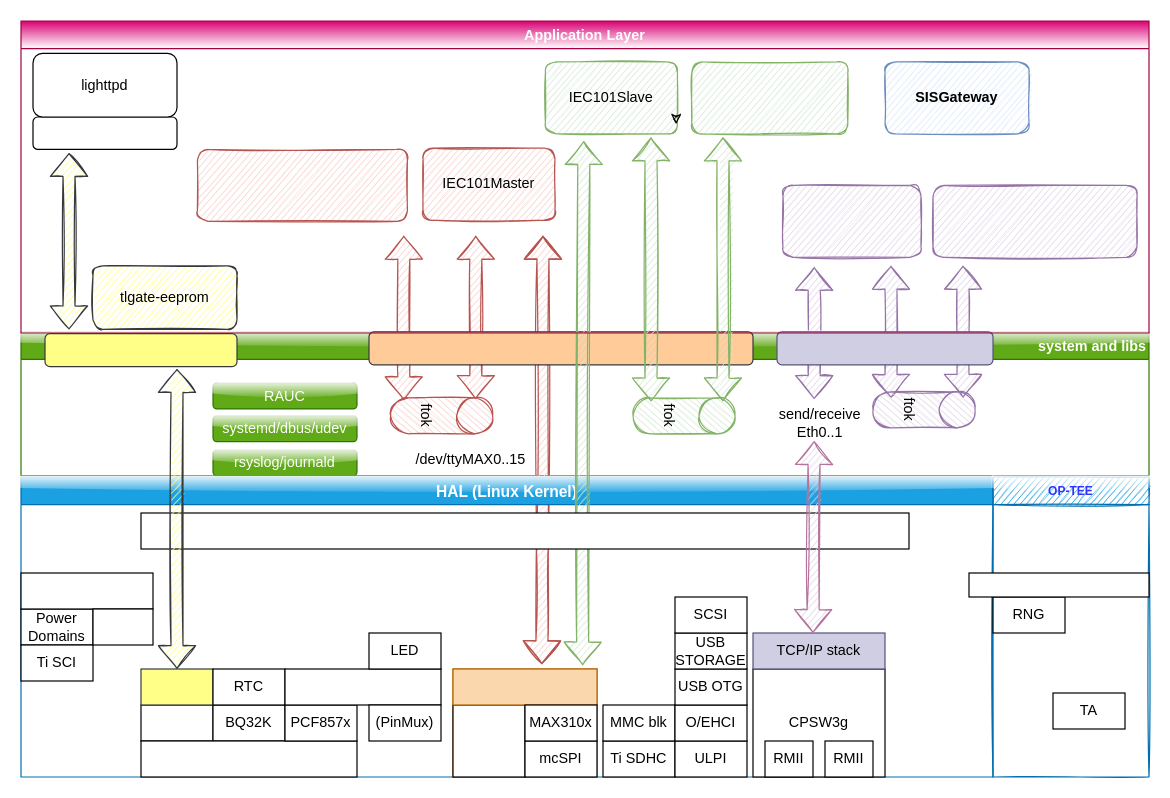
The diagram is 1170 pixels wide and 798 high, and some of its shapes have lost their labels. Here are the shapes that lost their labels. From the top down, the centre of each, then its label:
the point at 769,97: tlgate_appIEC101
the point at 104,132: cgi-bin(s)
the point at 301,184: tlgate_appIEC101Master
the point at 851,220: IEC104Slaver
the point at 1034,220: tlgate_appIEC104Slave
the point at 140,349: tlgate-vpd
the point at 560,348: tmw101
the point at 884,348: tmw104
the point at 524,530: VFS
the point at 86,590: PM
the point at 1058,584: OPTEE-RPC
the point at 122,626: DVFS
the point at 176,686: EEPROM
the point at 362,686: GPIO
the point at 524,686: TTY
the point at 176,722: AT24
the point at 488,740: OMAP UART
the point at 248,758: I2C
